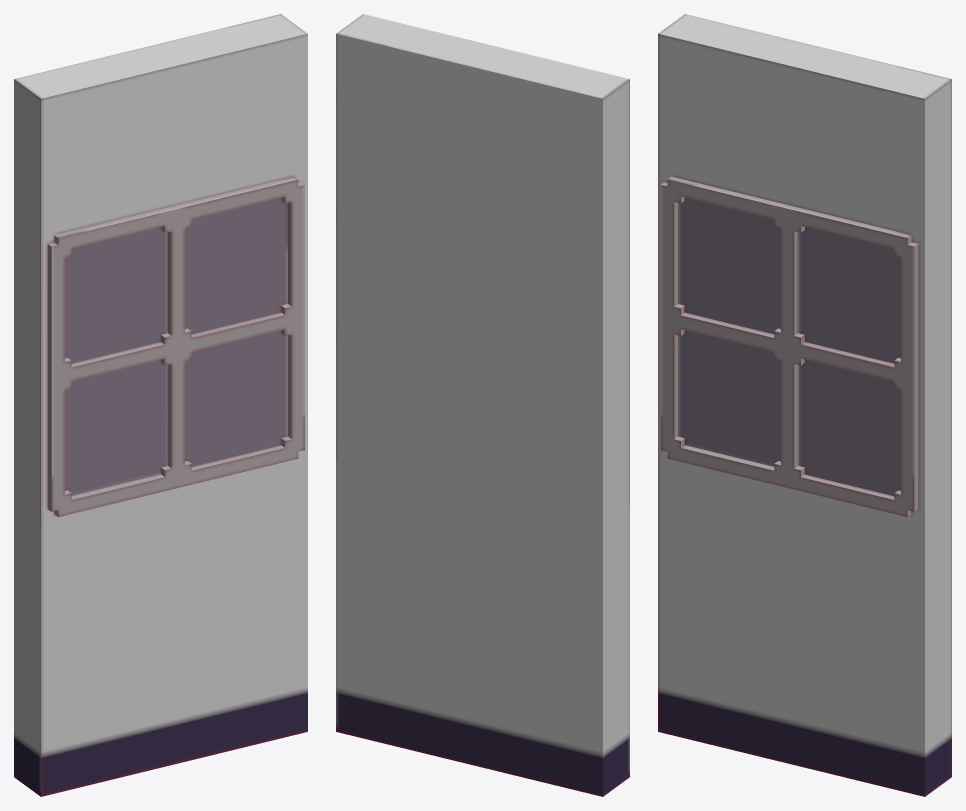
The model's file is wall-window_4.obj.
3 views of the same model, side by side, from view 1: azimuth 30°, elevation 25°; view 2: azimuth 150°, elevation 25°; view 3: azimuth 330°, elevation 25° (orthographic).
Visible parts, largest first — view 1: wall-window_4; view 2: wall-window_4; view 3: wall-window_4.
Boxes of the visible parts, x1,y1,x2,y2 form: wall-window_4: [14, 14, 307, 796]; wall-window_4: [336, 14, 629, 796]; wall-window_4: [658, 14, 951, 796].
Bounding box in the file's own units: 4 × 10 × 0.8.
1 material, 1 textured.
